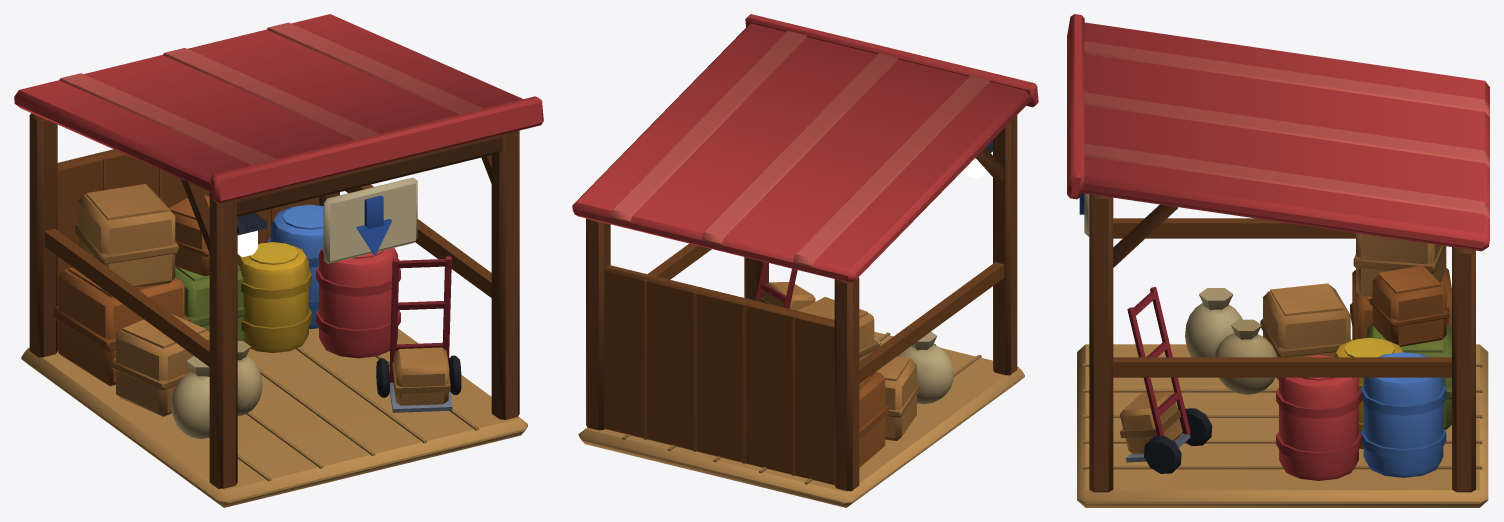
File: o_depot.glb
The picture shows the model from 3 angles, left to right: view 1: azimuth 30°, elevation 25°; view 2: azimuth 150°, elevation 25°; view 3: azimuth 270°, elevation 25°; orthographic projection. The views are drawn at different scales.
Visible parts, largest first — view 1: body; view 2: body; view 3: body.
Part boxes in pixels (x1=…): body: x1=14, y1=14, x2=543, y2=507; body: x1=572, y1=14, x2=1038, y2=507; body: x1=1067, y1=14, x2=1489, y2=507.
Size of the model in its own units: 3.16 by 3.12 by 3.5.
